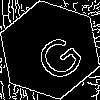G: (25, 25, 88, 85)
